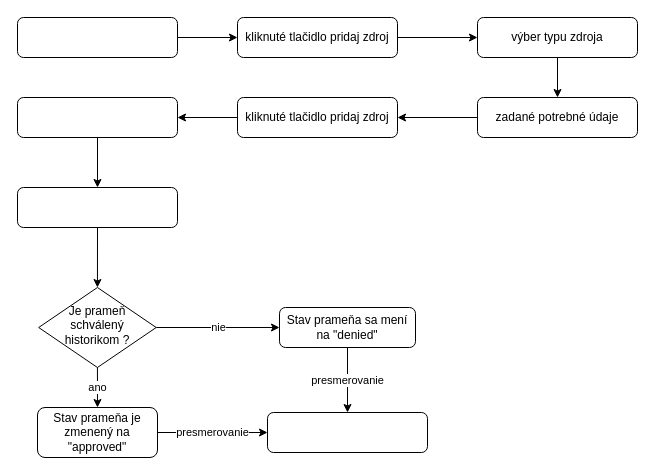
Image size: 655x475. Some labels were removed from this diagram. The shapes that lost their labels are listed below. From the top down, each one's box as (x1, y1, x2, y2) in pixels, then its label:
(16, 16, 178, 58): pod stránka Slovensko
(16, 96, 178, 138): údaje pridané do databazy so stavom "added"
(16, 186, 178, 228): pod stránka schválenie zdroja
(266, 412, 428, 452): hlavná stránka
